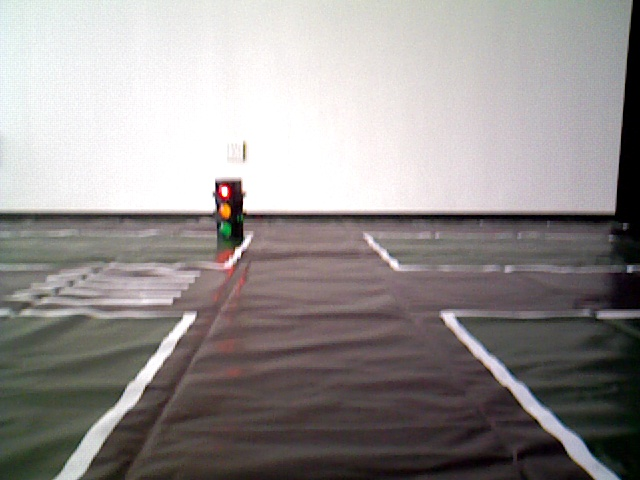red: (217, 183, 240, 241)
